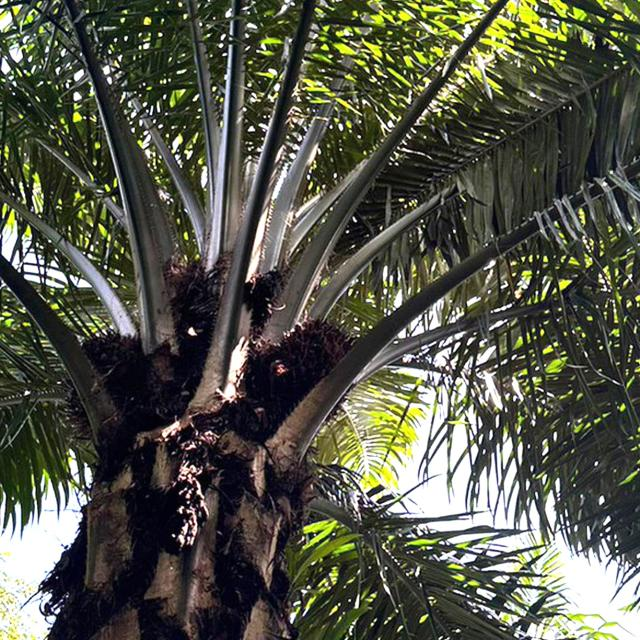ripe: (254, 306, 359, 412)
